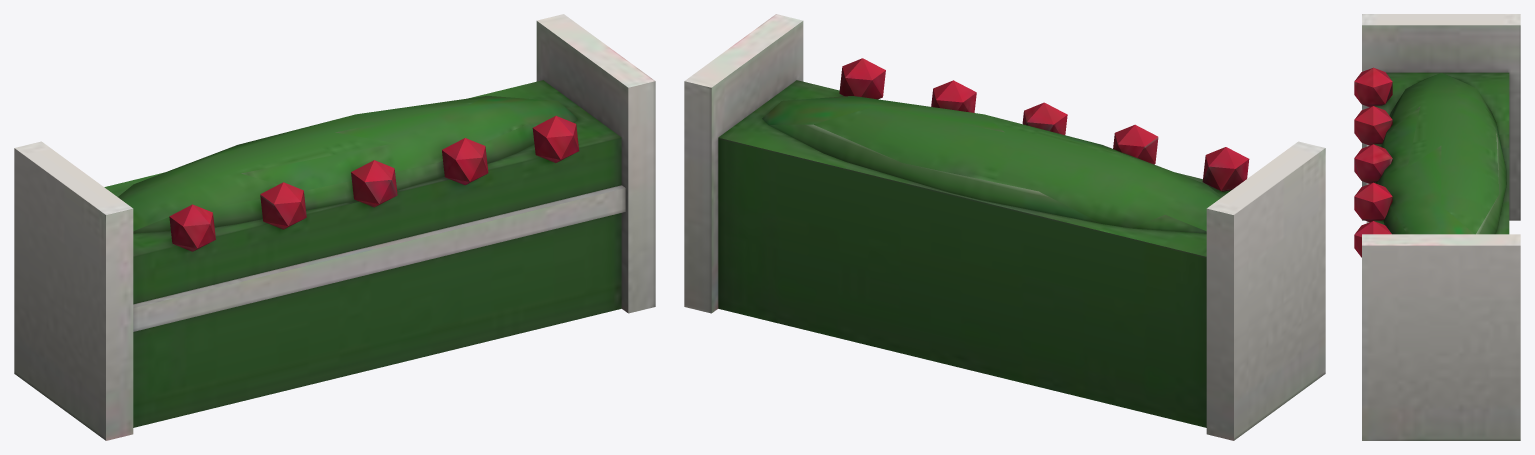
The model's file is seto_derby.glb.
3 renders of one model, left to right at view 1: azimuth 30°, elevation 25°; view 2: azimuth 150°, elevation 25°; view 3: azimuth 270°, elevation 25°, orthographic. The views are drawn at different scales.
Visible parts, largest first — view 1: seto_derby; view 2: seto_derby; view 3: seto_derby.
Part boxes in pixels (x1,y1,x2,y2): seto_derby: (14, 14, 655, 440); seto_derby: (684, 14, 1325, 440); seto_derby: (1354, 14, 1520, 440).
Bounding box in the file's own units: 2.42 × 0.95 × 0.7351.
1 material, 1 textured.
